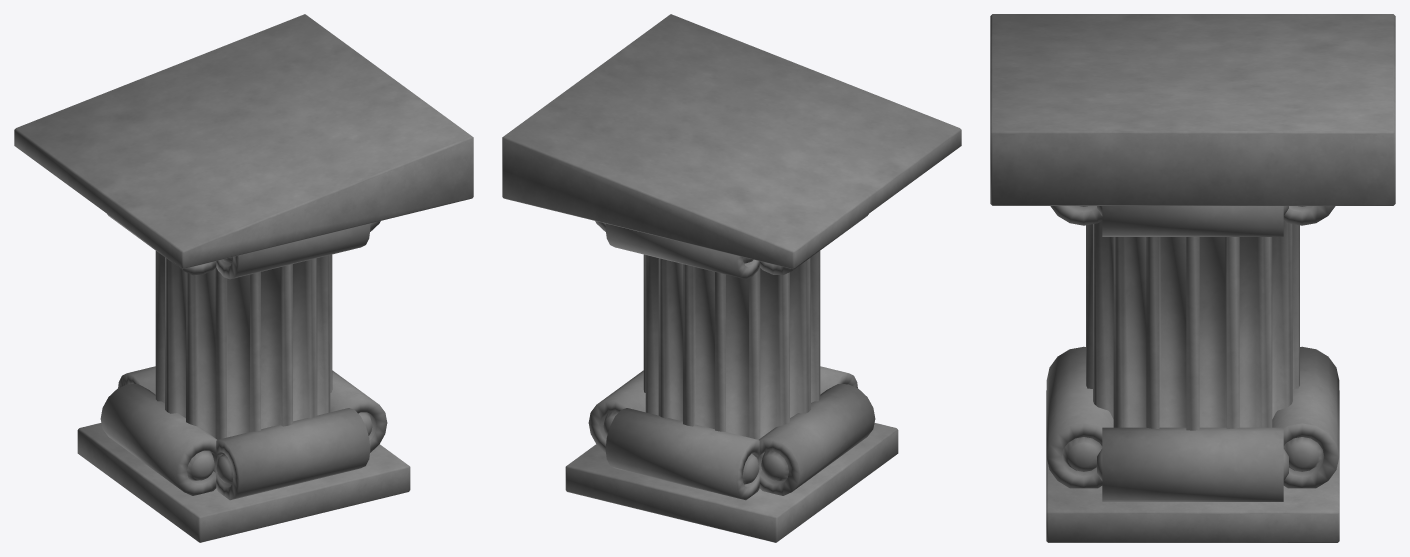
Rendered from stele.fbx.
3 views of the same model, side by side, from view 1: azimuth 30°, elevation 25°; view 2: azimuth 150°, elevation 25°; view 3: azimuth 270°, elevation 25° (orthographic). The views are drawn at different scales.
Parts seen in each view (by area): view 1: StoneStele; view 2: StoneStele; view 3: StoneStele.
Part boxes in pixels (<box>): StoneStele: <box>14,14,473,542</box>; StoneStele: <box>502,14,961,542</box>; StoneStele: <box>990,14,1395,542</box>.
Bounding box in the file's own units: 564 × 669 × 564.
